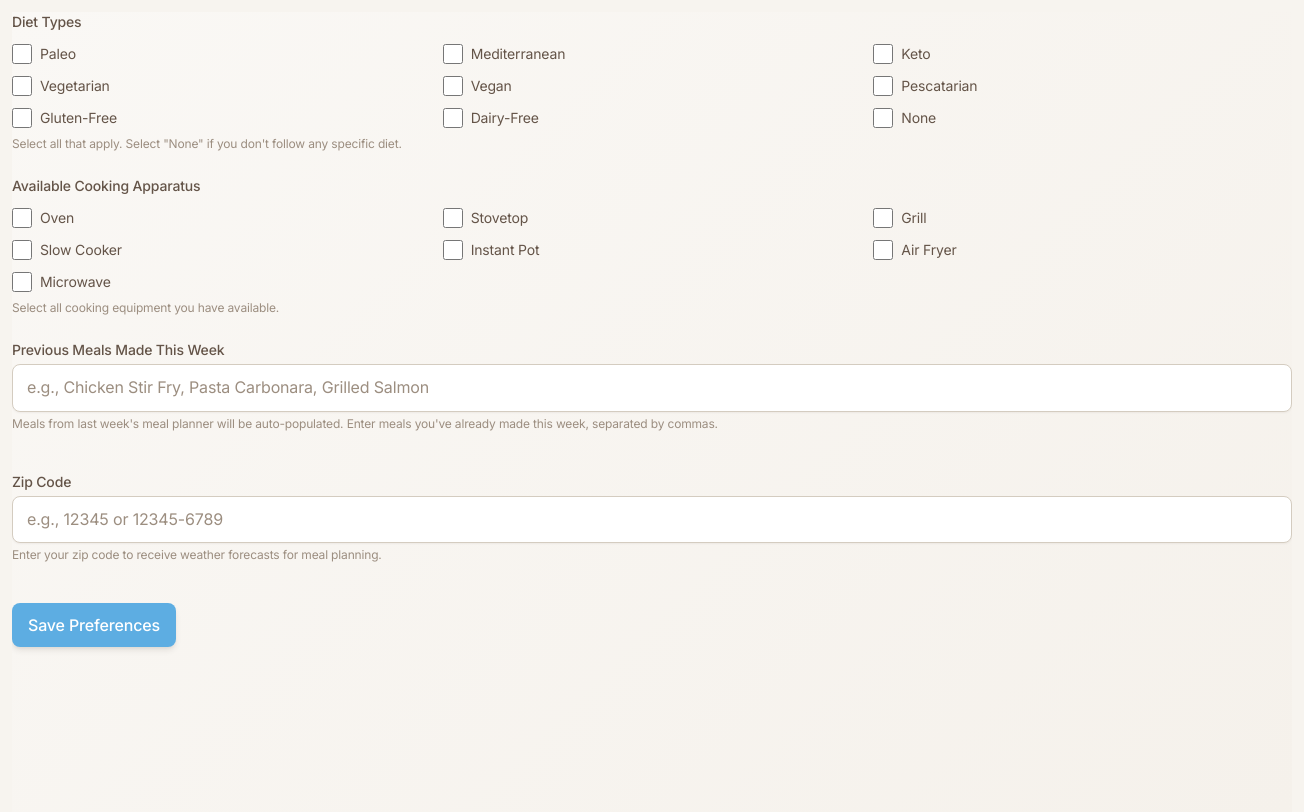
Test: PreferencesForm › clears zip code error when user starts typing
The image size is (1304, 812).
Note: Enter invalid zip code and trigger blur
Type "1234" into the field labelled "Zip Code" at (652, 519), box [12,496,1292,543]
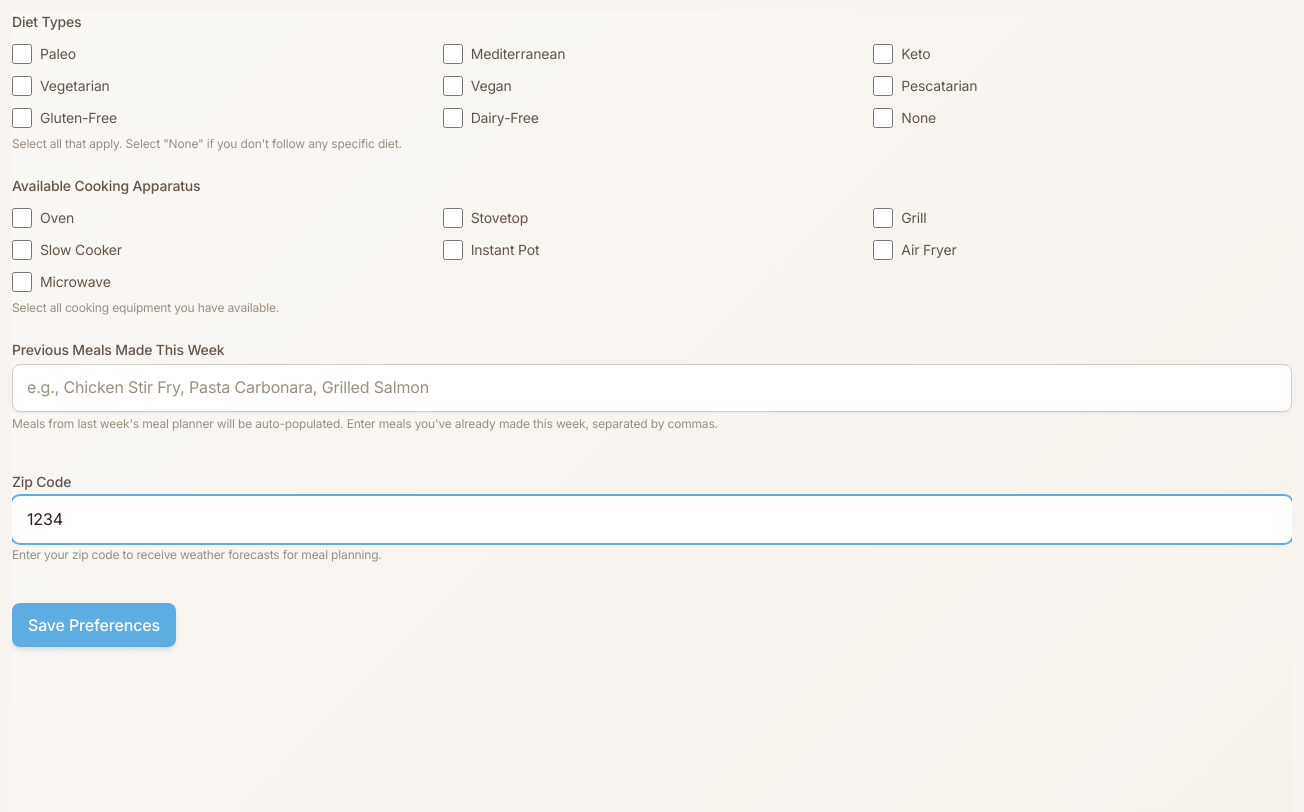
Press Tab
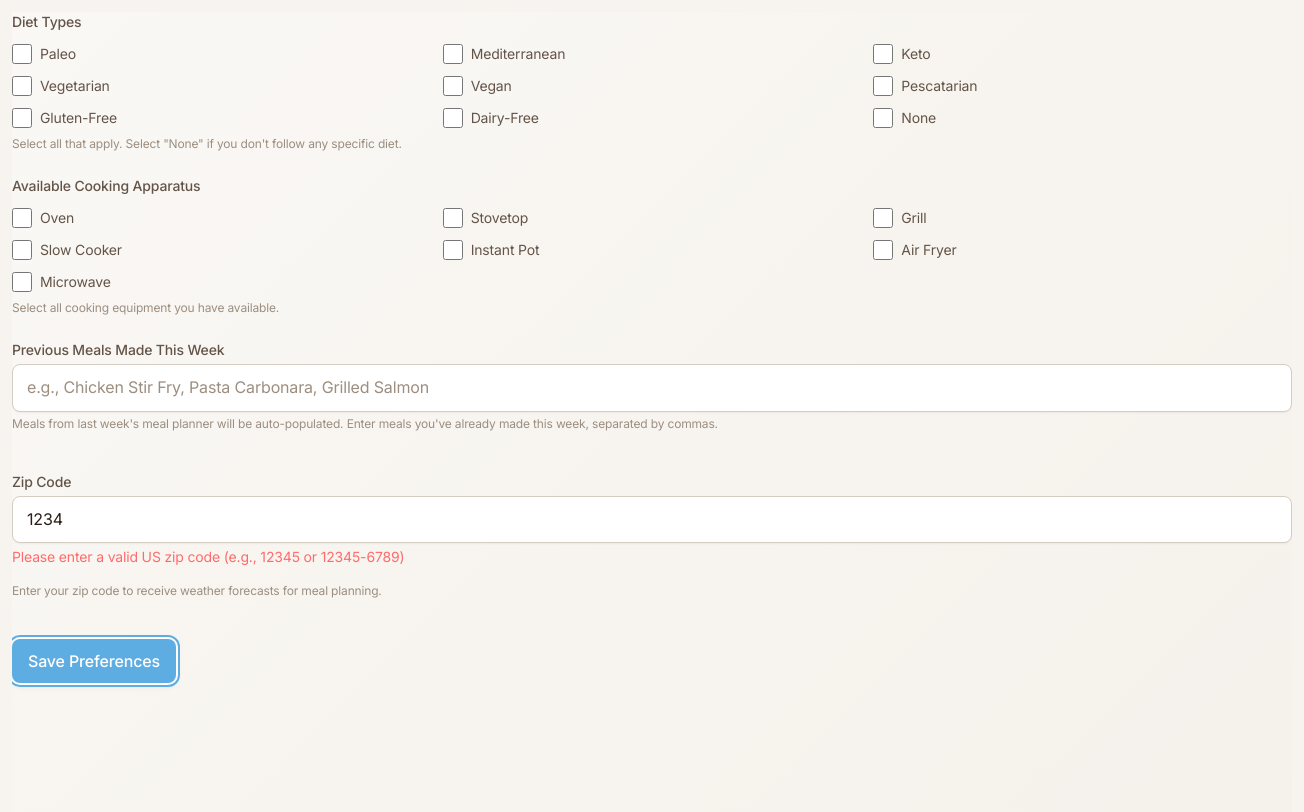
Expected: the text "Please enter a valid US zip code (e.g., 12345 or 12345-6789)" is shown, [12,548,404,565]
Note: Start typing again - error should clear
Type "5" into the field labelled "Zip Code" at (652, 519), box [12,496,1292,543]
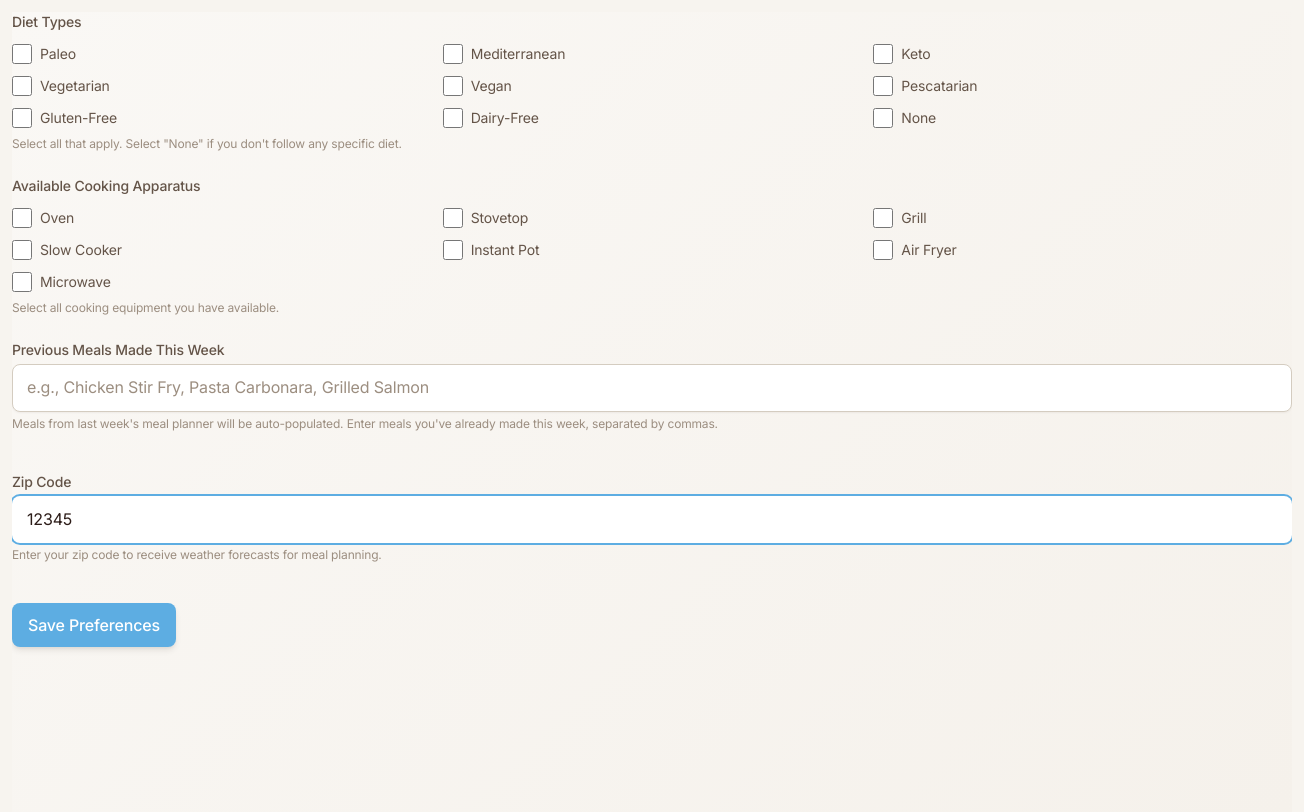
Expected: the text "Please enter a valid US zip code" is gone
